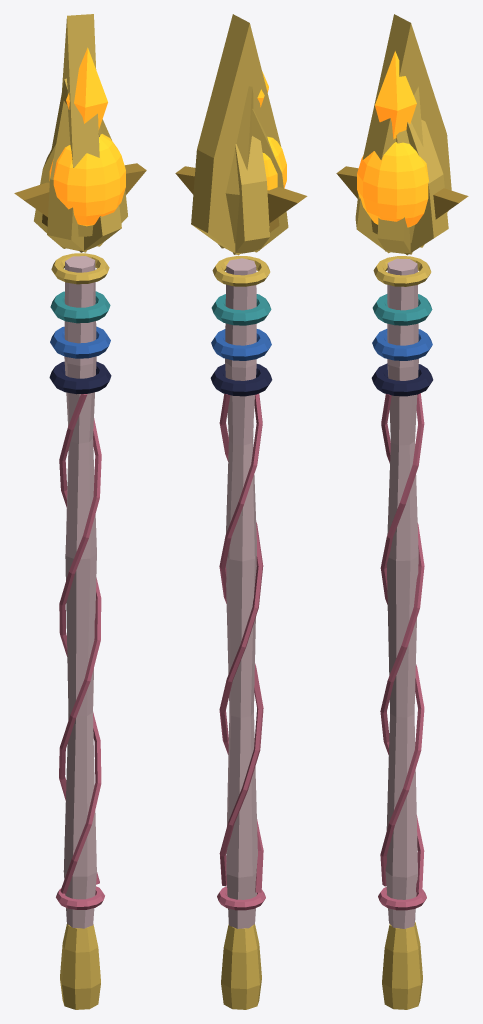
File: staff_tripleband.glb
The picture shows the model from 3 angles, left to right: view 1: azimuth 30°, elevation 25°; view 2: azimuth 150°, elevation 25°; view 3: azimuth 330°, elevation 25°; orthographic projection.
Visible parts, largest first — view 1: Tb_Shaft, Tb_Core, Tb_Crown0, Tb_Butt, Tb_Twist1, Tb_Twist0, Tb_Crown2, Tb_CoreTip, Tb_Band0, Tb_Crown3, Tb_Band1, Tb_Band2 (+5 smaller); view 2: Tb_Shaft, Tb_Crown0, Tb_Crown1, Tb_Butt, Tb_Twist0, Tb_Twist1, Tb_Crown3, Tb_Band0, Tb_Band1, Tb_Band2, Tb_GoldBand, Tb_Crown2 (+4 smaller); view 3: Tb_Shaft, Tb_Core, Tb_Crown0, Tb_Butt, Tb_Twist1, Tb_Twist0, Tb_Crown4, Tb_CoreTip, Tb_Band0, Tb_Band1, Tb_Band2, Tb_GoldBand (+6 smaller).
Part boxes in pixels (box(x1,y1,x2,y2)): Tb_Shaft: box(63, 256, 96, 928); Tb_Core: box(49, 134, 125, 226); Tb_Crown0: box(62, 14, 99, 236); Tb_Butt: box(60, 924, 100, 1009); Tb_Twist1: box(59, 418, 101, 893); Tb_Twist0: box(59, 394, 101, 884); Tb_Crown2: box(47, 101, 86, 252); Tb_CoreTip: box(66, 47, 107, 129); Tb_Band0: box(49, 361, 111, 394); Tb_Crown3: box(51, 78, 121, 252); Tb_Band1: box(50, 326, 110, 358); Tb_Band2: box(50, 291, 110, 323); Tb_Shaft: box(225, 258, 257, 928); Tb_Crown0: box(191, 14, 281, 255); Tb_Crown1: box(232, 136, 269, 254); Tb_Butt: box(221, 924, 261, 1009); Tb_Twist0: box(219, 393, 263, 886); Tb_Twist1: box(219, 394, 263, 892); Tb_Crown3: box(225, 86, 253, 243); Tb_Band0: box(210, 364, 272, 396); Tb_Band1: box(211, 329, 271, 360); Tb_Band2: box(211, 294, 271, 325); Tb_GoldBand: box(212, 256, 270, 286); Tb_Crown2: box(252, 108, 288, 252); Tb_Shaft: box(385, 258, 418, 928); Tb_Core: box(357, 142, 429, 227); Tb_Crown0: box(362, 14, 451, 247); Tb_Butt: box(382, 922, 422, 1009); Tb_Twist1: box(380, 393, 424, 886); Tb_Twist0: box(380, 394, 424, 892); Tb_Crown4: box(404, 119, 448, 255); Tb_CoreTip: box(375, 51, 416, 139); Tb_Band0: box(371, 363, 433, 396); Tb_Band1: box(372, 329, 432, 360); Tb_Band2: box(372, 294, 432, 325); Tb_GoldBand: box(373, 256, 431, 286).
Size of the model in its own units: 0.2922 by 2.24 by 0.2163.
